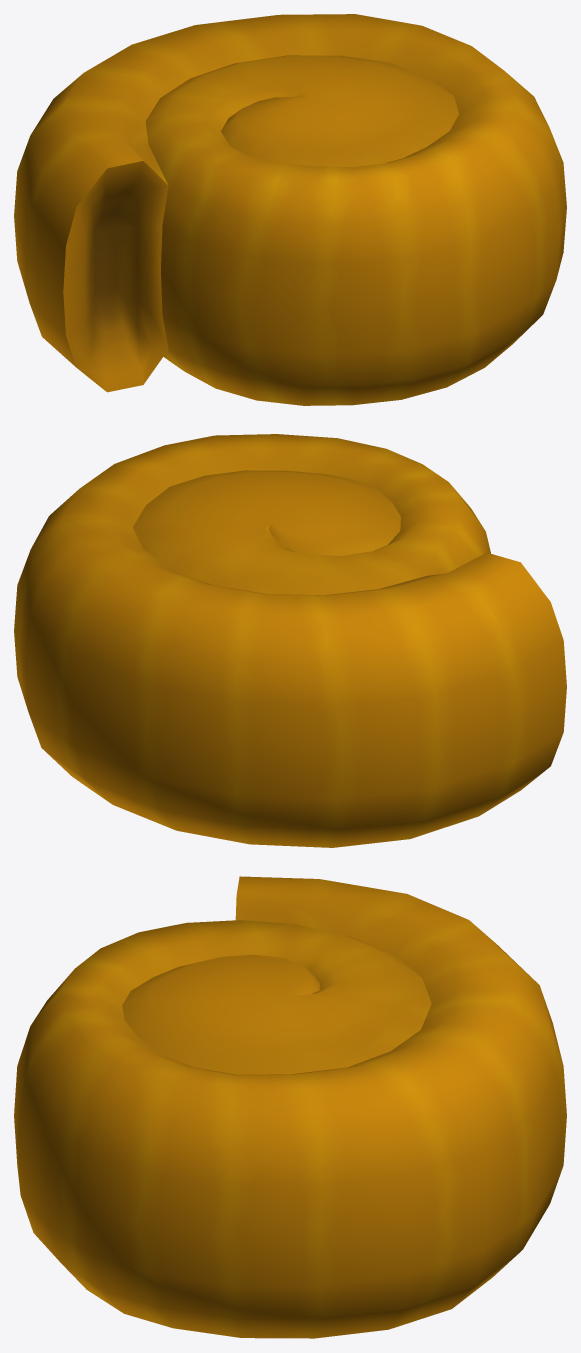
Rendered from fossil.fbx.
3 renders of one model, top to bottom at view 1: azimuth 30°, elevation 25°; view 2: azimuth 150°, elevation 25°; view 3: azimuth 270°, elevation 25°, orthographic. The views are drawn at different scales.
Visible parts, largest first — view 1: pCylinder3; view 2: pCylinder3; view 3: pCylinder3.
Part boxes in pixels (x1,y1,x2,y2): pCylinder3: (14,14,566,405); pCylinder3: (14,434,566,847); pCylinder3: (14,876,566,1338).
Size of the model in its own units: 295 by 132 by 264.
